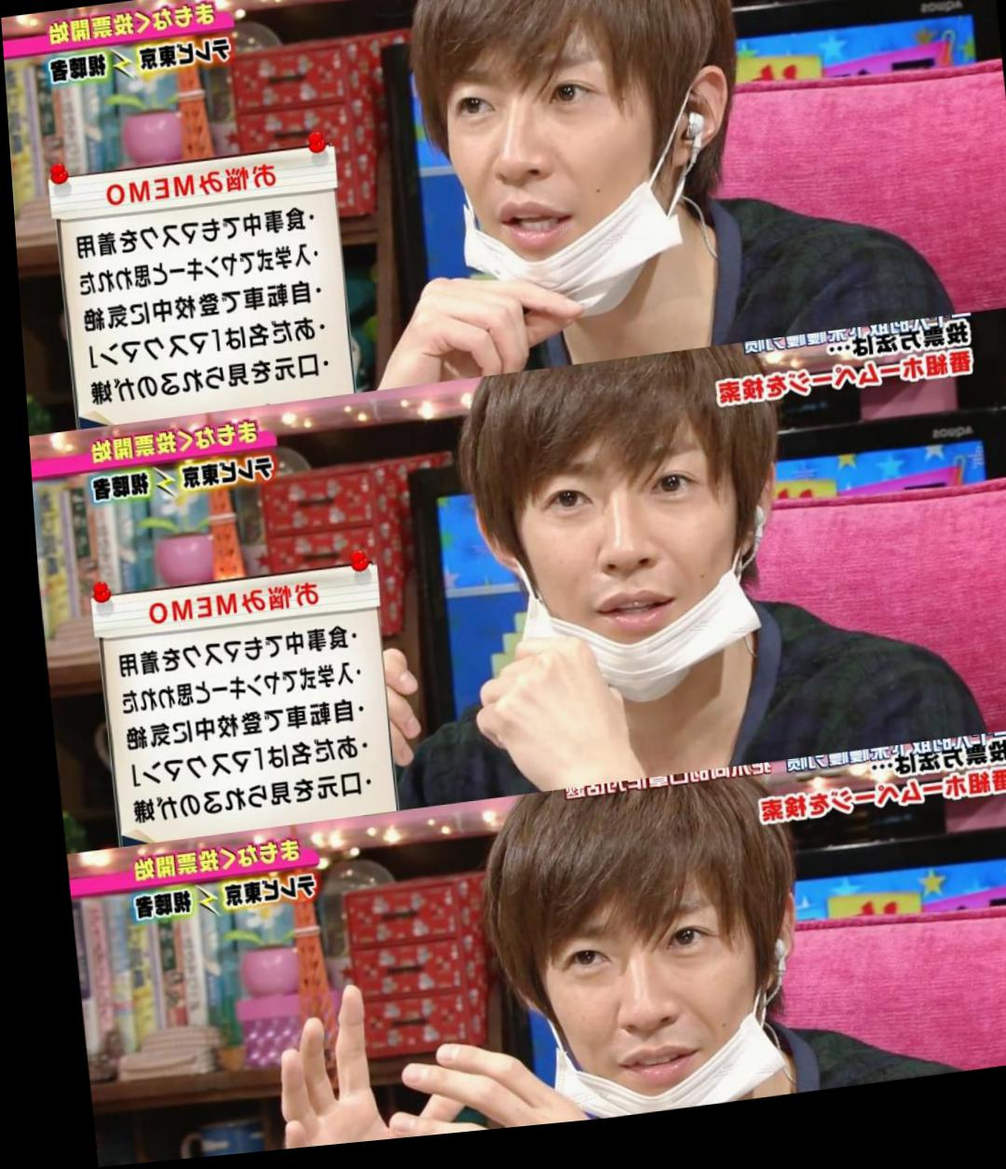WRONG: (482, 444, 755, 725), (432, 56, 690, 316), (512, 893, 746, 1135)
